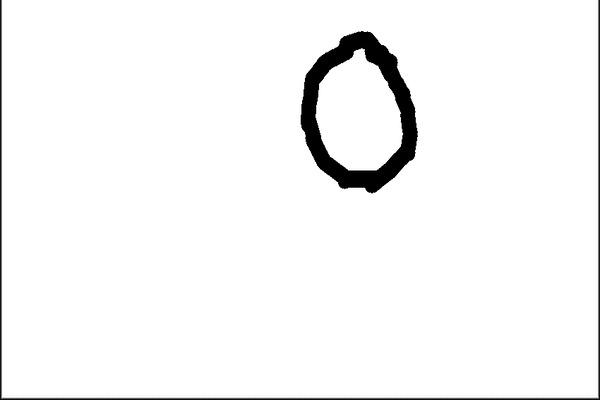O: (280, 24, 432, 198)
